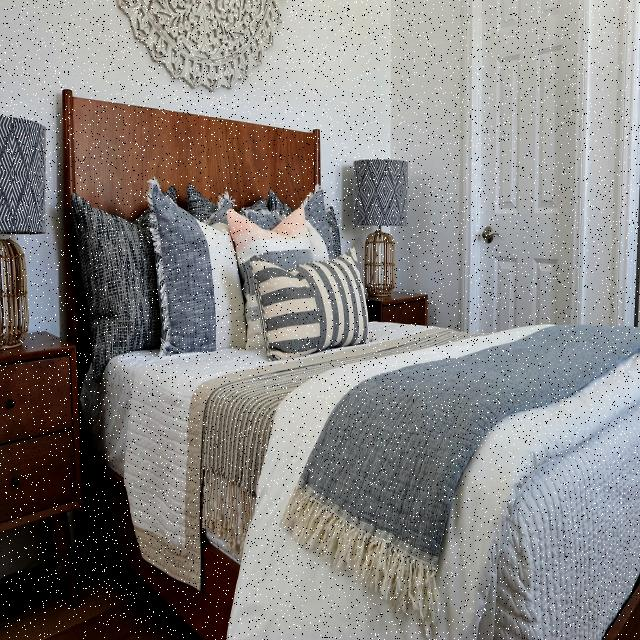bed: (80, 151, 640, 640)
